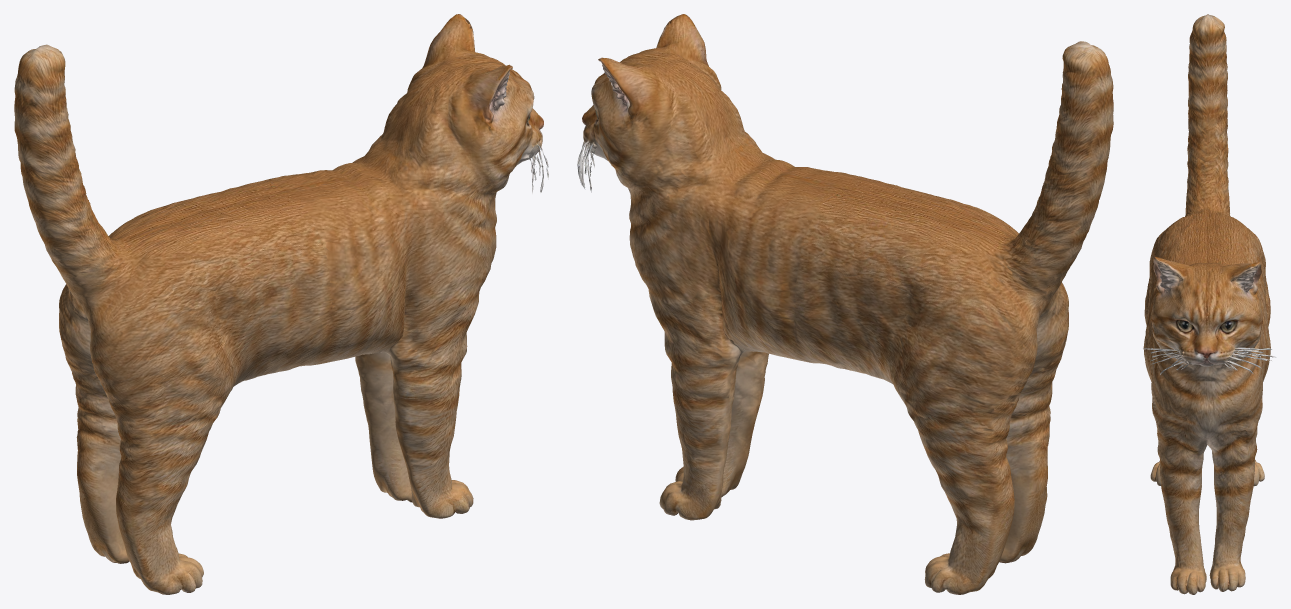
The model's file is KONPEIMISO.glb.
3 renders of one model, left to right at view 1: azimuth 30°, elevation 25°; view 2: azimuth 150°, elevation 25°; view 3: azimuth 270°, elevation 25°, orthographic. The views are drawn at different scales.
Parts seen in each view (by area): view 1: tripo_node_40955ee7-b657-437b-8bb6-0acfc1943f80; view 2: tripo_node_40955ee7-b657-437b-8bb6-0acfc1943f80; view 3: tripo_node_40955ee7-b657-437b-8bb6-0acfc1943f80.
Boxes of the visible parts, box(x1,y1,x2,y2) form: tripo_node_40955ee7-b657-437b-8bb6-0acfc1943f80: box(14, 14, 548, 594); tripo_node_40955ee7-b657-437b-8bb6-0acfc1943f80: box(577, 14, 1113, 594); tripo_node_40955ee7-b657-437b-8bb6-0acfc1943f80: box(1143, 14, 1275, 594).
Bounding box in the file's own units: 0.9919 × 1 × 0.2865.
1 material, 1 textured.
